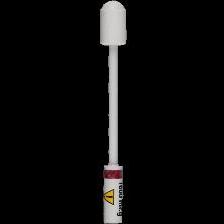63459-516: (0, 0, 224, 224)
